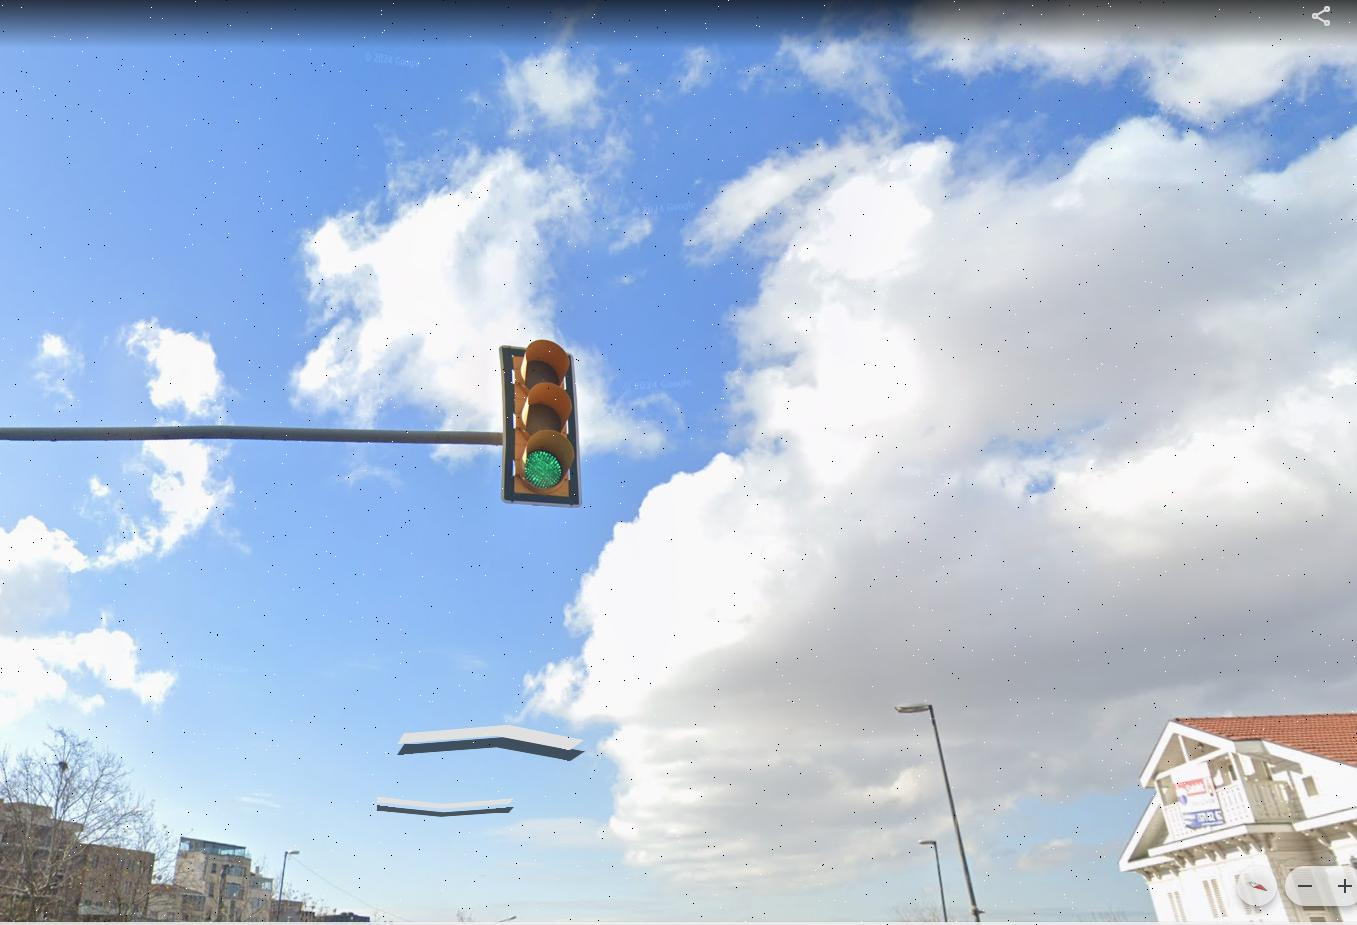greenlight: (505, 342, 577, 496)
